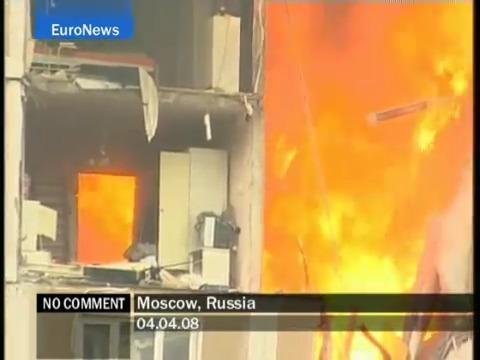fire: (265, 0, 476, 294), (77, 171, 134, 267)
